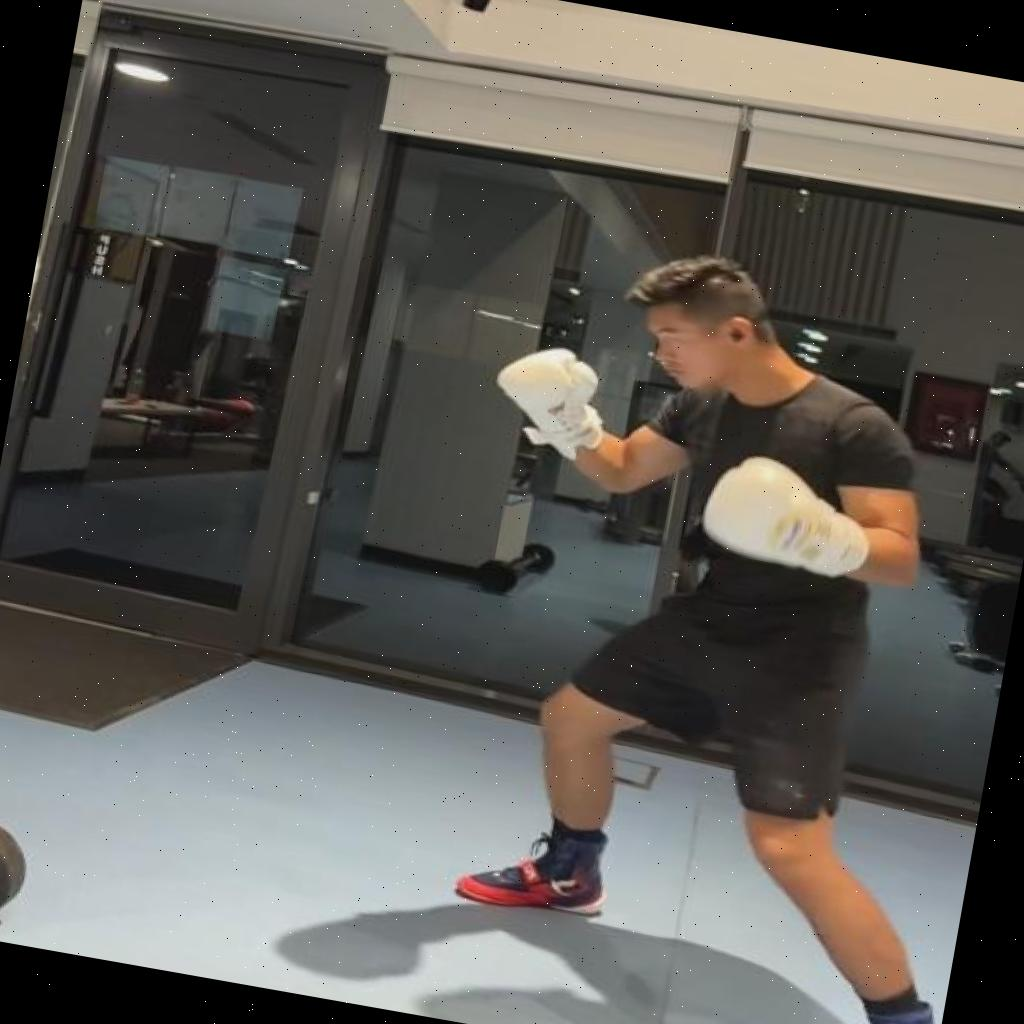no punch: (383, 225, 1024, 1024)
